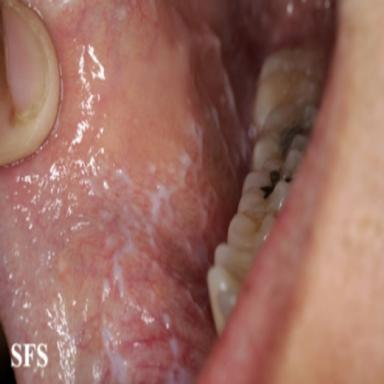lichen: (87, 26, 252, 384)
